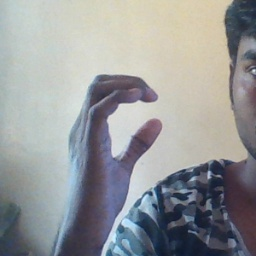C: (85, 64, 171, 180)
